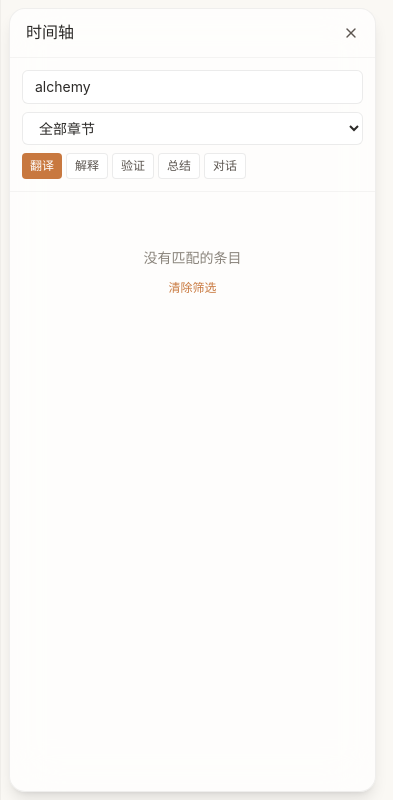
TimelinePanel › lets readers clear filters from an empty filtered result
The width and height of the screenshot is (393, 800).
Expected: the message named "时间轴空状态" shows "没有匹配的条目", x1=144 y1=249 x2=242 y2=266
Click the button "清除筛选" at x=192, y=288, box x1=168 y1=280 x2=216 y2=296
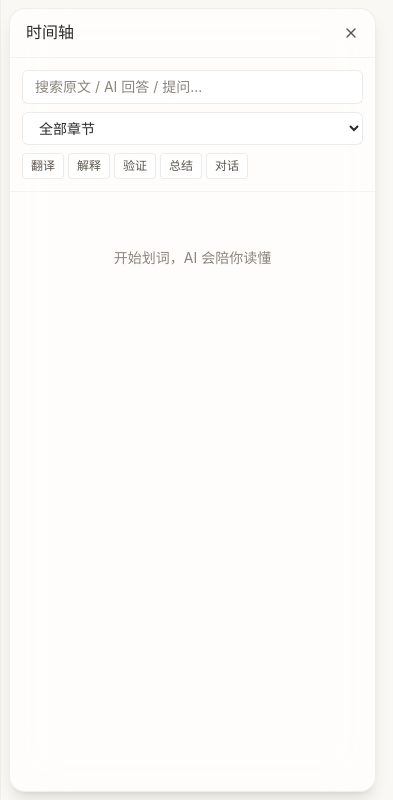
Now the field named "搜索时间轴条目" is empty, box x1=22 y1=70 x2=363 y2=104
Now the message named "时间轴空状态" reads "开始划词，AI 会陪你读懂", box x1=114 y1=249 x2=271 y2=266
